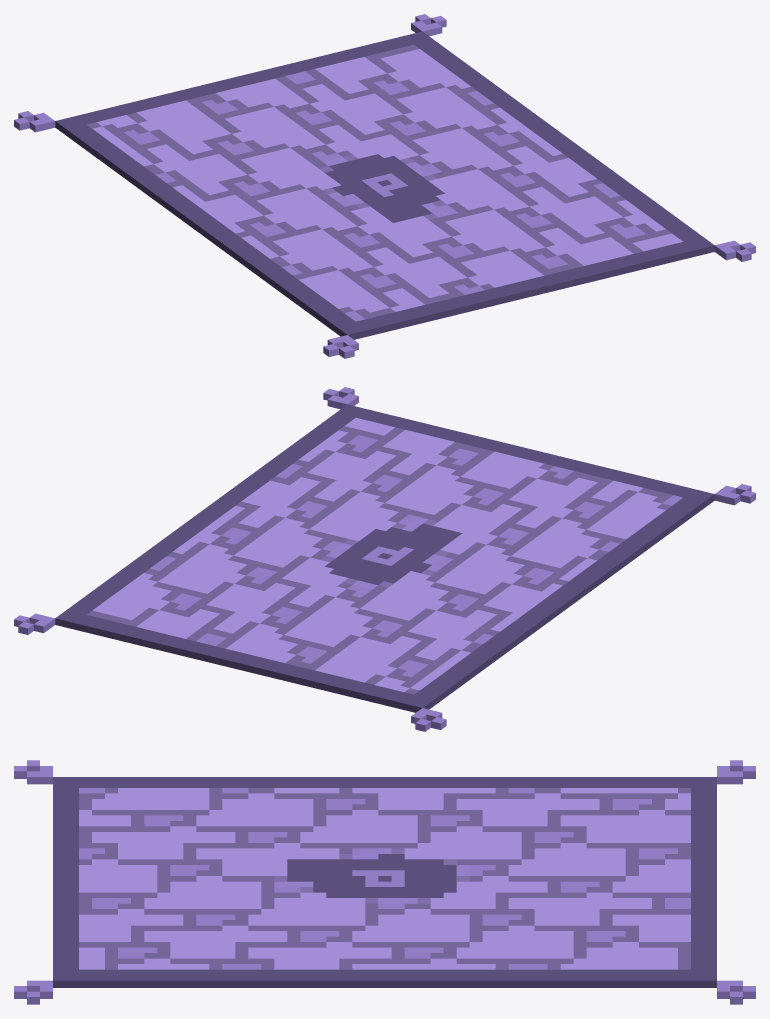
File: PixelRug - Purple Punk - Limited Edition.glb
3 views of the same model, one above another, from view 1: azimuth 30°, elevation 25°; view 2: azimuth 150°, elevation 25°; view 3: azimuth 270°, elevation 25° (orthographic). The views are drawn at different scales.
Visible parts, largest first — view 1: Curve.578; view 2: Curve.578; view 3: Curve.578.
Boxes of the visible parts, x1,y1,x2,y2 form: Curve.578: (14, 14, 755, 358); Curve.578: (14, 387, 755, 731); Curve.578: (14, 760, 755, 1004).
Bounding box in the file's own units: 0.8319 × 0.0123 × 1.1.
